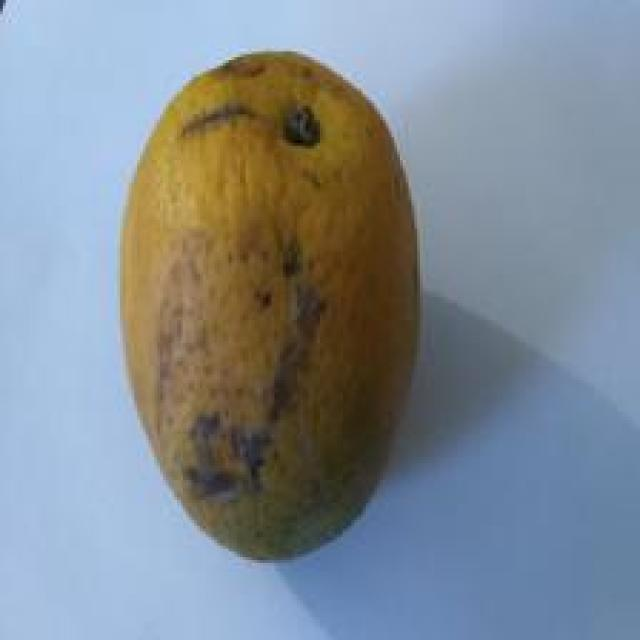Orange: (117, 46, 420, 563)
